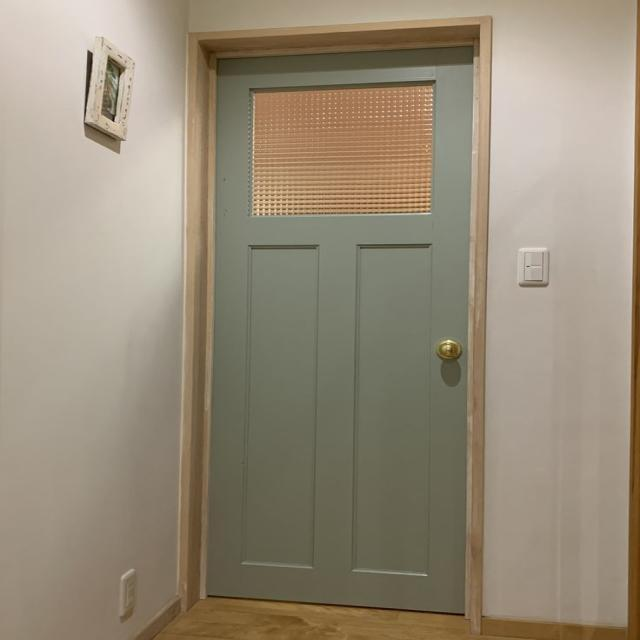door: (204, 43, 473, 614)
